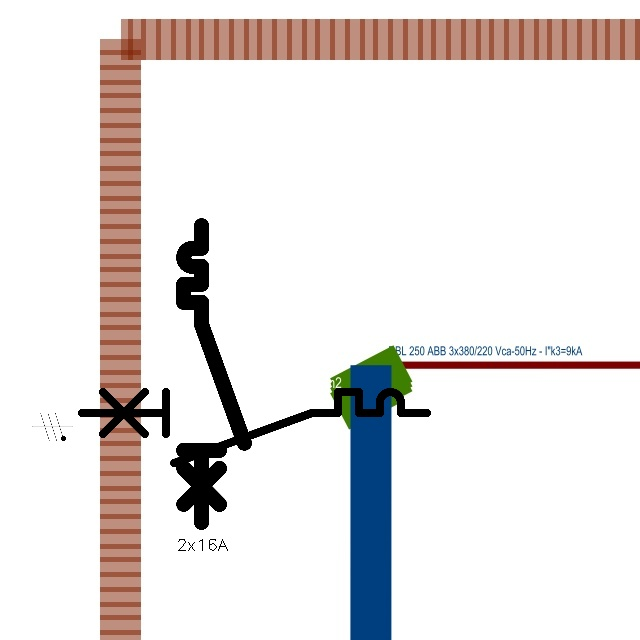interruptor_termomagnetico: (73, 383, 436, 472), (176, 218, 252, 530)
